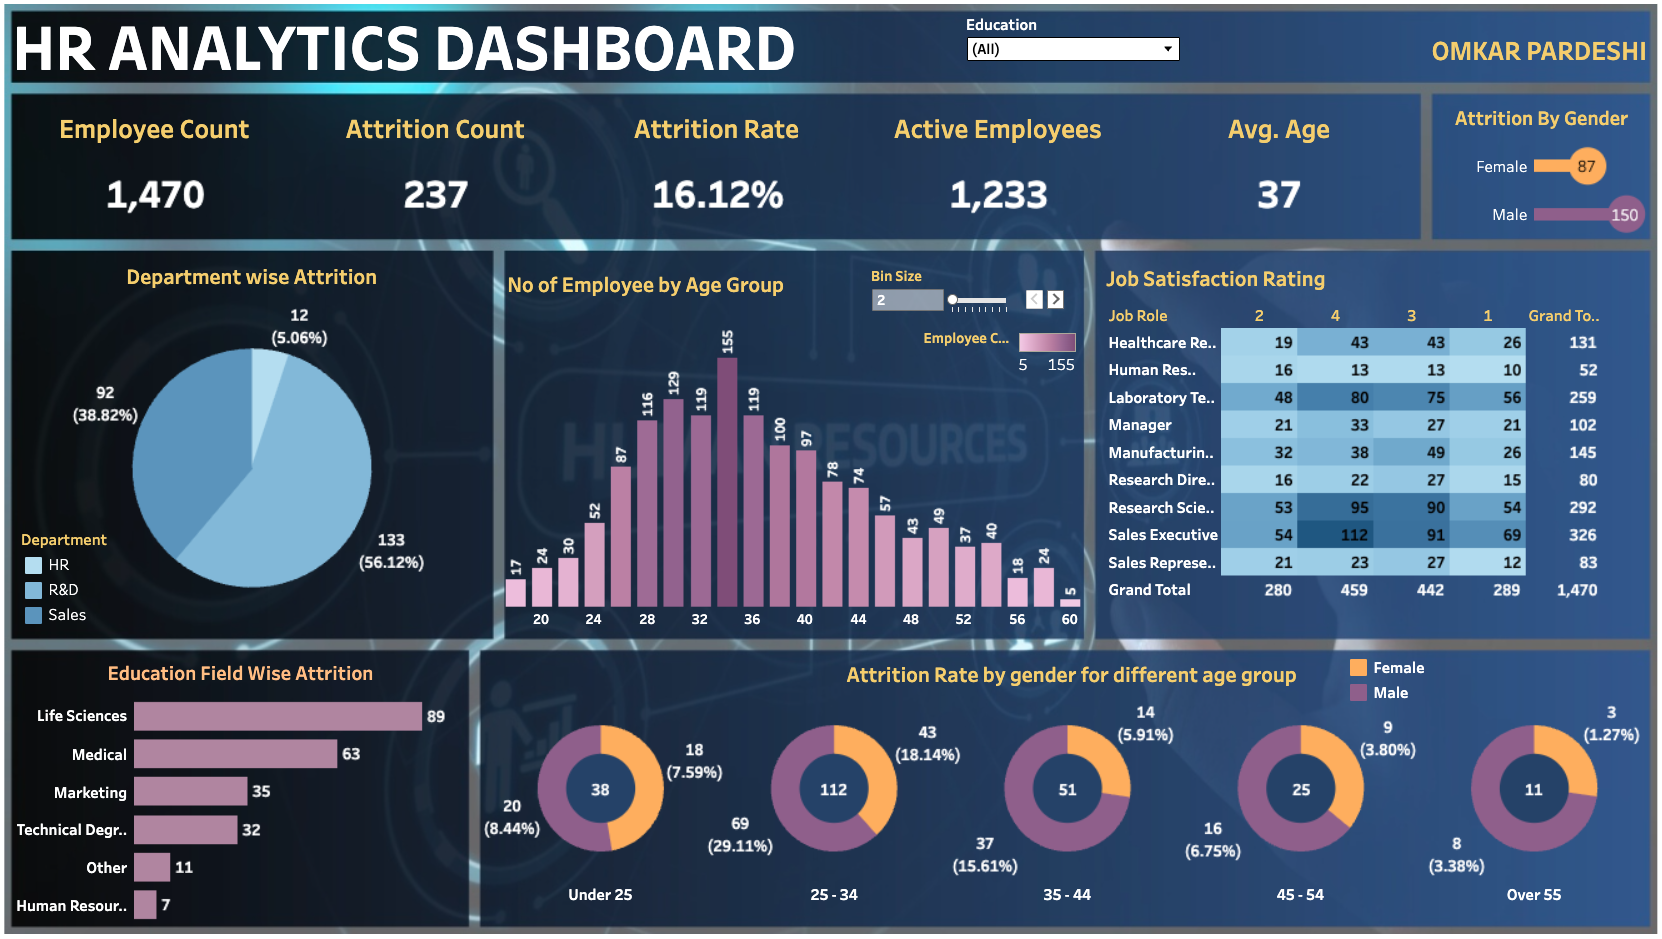

The dashboard page shown, as its layout file describes it:
{"tool":"tableau","page":{"name":"HR Analytics Dashboard","canvas":[1366,768],"ordinal":0},"visuals":[{"type":"image","param":"Image/HR background.pptx.png","box":[8,8,1350,752]},{"type":"text","box":[28,19,706,54]},{"type":"filter","title":"Attrition Rate by gender for different age group","param":"[federated.0tf8clm0o3tj3611p0xwt0g4fuo1].[none:Education:nk]","box":[791,19,172,53]},{"type":"text","box":[1133,21,203,56]},{"type":"worksheet","title":"KPI","mark":"Automatic","box":[29,85,1125,115]},{"type":"worksheet","title":"Attrition By Gender","mark":"Automatic","rows":["Gender"],"cols":["Calculation_3043870428276600832","Calculation_3043870428276600832"],"box":[1165,86,173,113]},{"type":"worksheet","title":"Department wise Attrition","mark":"Pie","box":[29,212,381,304]},{"type":"worksheet","title":"Job Satisfaction Rating","mark":"Square","rows":["Job Role"],"cols":["Job Satisfaction"],"box":[899,213,439,304]},{"type":"worksheet","title":"No of Employee by Age Group","mark":"Automatic","rows":["Employee Count"],"cols":["Age (bin)"],"box":[419.7,217.7,466.6,296.4]},{"type":"parameter","param":"[Parameters].[Parameter 1]","box":[715.2,221.8,158.1,40.4]},{"type":"legend","title":"No of Employee by Age Group","param":"[federated.0tf8clm0o3tj3611p0xwt0g4fuo1].[sum:Employee Count:qk]","box":[756.6,270.5,126.5,38.3]},{"type":"legend","title":"Department wise Attrition","param":"[federated.0tf8clm0o3tj3611p0xwt0g4fuo1].[none:Department:nk]","box":[35,432,101,81]},{"type":"worksheet","title":"Education Field Wise Attrition","mark":"Automatic","rows":["Education Field"],"cols":["Calculation_3043870428276600832"],"box":[29,530,363,218]},{"type":"worksheet","title":"Attrition Rate by gender for different age group","mark":"Pie","rows":["Calculation_3010374908863975425","Calculation_3010374908863975425"],"cols":["CF_age band"],"box":[405,530,934,203]},{"type":"legend","title":"Attrition Rate by gender for different age group","param":"[federated.0tf8clm0o3tj3611p0xwt0g4fuo1].[none:Gender:nk]","box":[1095,533,75,47]}]}

Visuals, with their boxes in screenshot pixels (x1, y1, x2, y2), scaled from the page's 1366x768 canvas onto the 1662x939 screenshot:
image: 10:10:1652:929
text: 34:23:893:89
"Attrition Rate by gender for different age group" filter: 962:23:1172:88
text: 1379:26:1625:94
"KPI" worksheet: 35:104:1404:245
"Attrition By Gender" worksheet: 1417:105:1628:243
"Department wise Attrition" worksheet (Pie marks): 35:259:499:631
"Job Satisfaction Rating" worksheet (Square marks): 1094:260:1628:632
"No of Employee by Age Group" worksheet: 511:266:1078:629
parameter: 870:271:1063:321
"No of Employee by Age Group" legend: 921:331:1074:378
"Department wise Attrition" legend: 43:528:165:627
"Education Field Wise Attrition" worksheet: 35:648:477:915
"Attrition Rate by gender for different age group" worksheet (Pie marks): 493:648:1629:896
"Attrition Rate by gender for different age group" legend: 1332:652:1424:709
